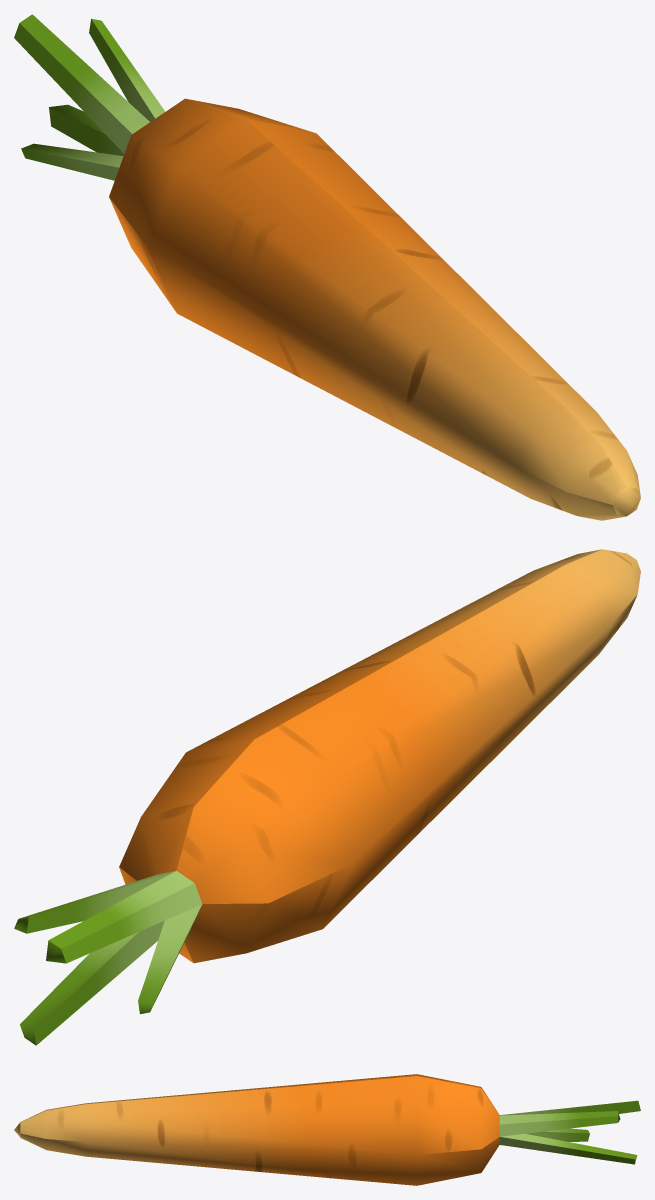
The model's file is carrot.fbx.
3 views of the same model, one above another, from view 1: azimuth 30°, elevation 25°; view 2: azimuth 150°, elevation 25°; view 3: azimuth 270°, elevation 25° (orthographic). The views are drawn at different scales.
Parts seen in each view (by area): view 1: Carrot; view 2: Carrot; view 3: Carrot.
Boxes of the visible parts, x1,y1,x2,y2 form: Carrot: (14,14,640,520); Carrot: (14,549,640,1045); Carrot: (14,1074,640,1185).
Size of the model in its own units: 30.97 by 30.97 by 163.
